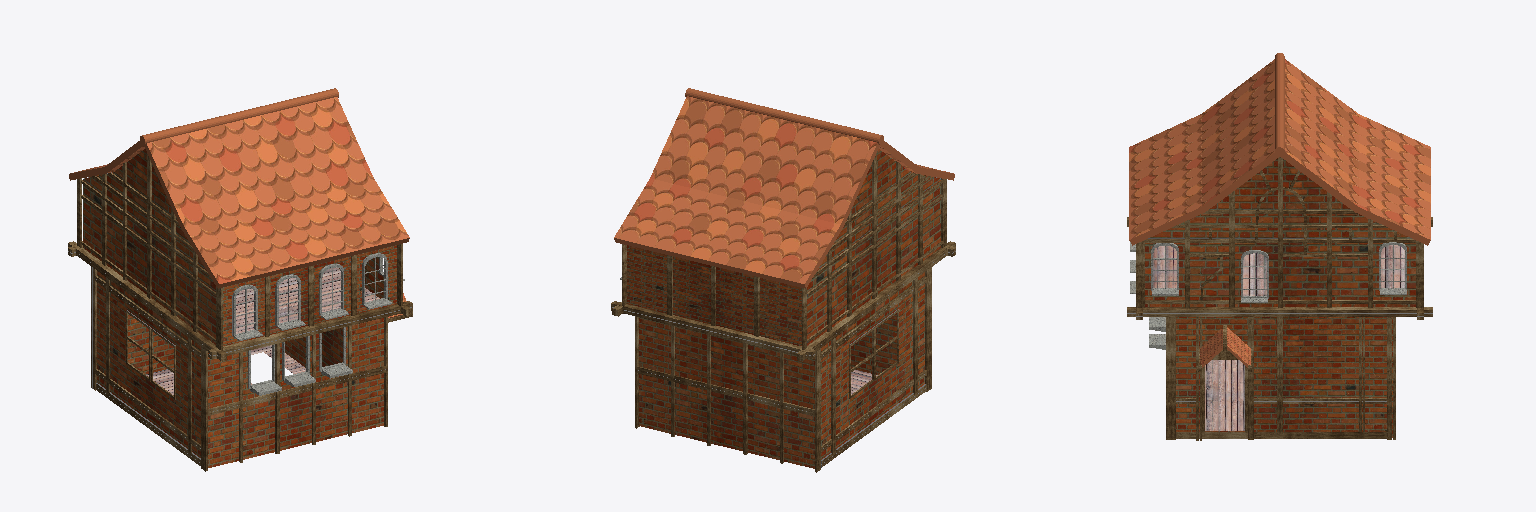
The picture shows the model from 3 angles: view 1: azimuth 30°, elevation 25°; view 2: azimuth 150°, elevation 25°; view 3: azimuth 270°, elevation 25°; orthographic projection.
Visible parts, largest first — view 1: Fachada:polySurface265; view 2: Fachada:polySurface265; view 3: Fachada:polySurface265.
Part boxes in pixels (x1,y1,x2,y2): Fachada:polySurface265: (68,88,412,471); Fachada:polySurface265: (611,88,955,472); Fachada:polySurface265: (1127,53,1432,440).
Size of the model in its own units: 42.98 by 52.31 by 49.18.
11 materials, 6 textured.